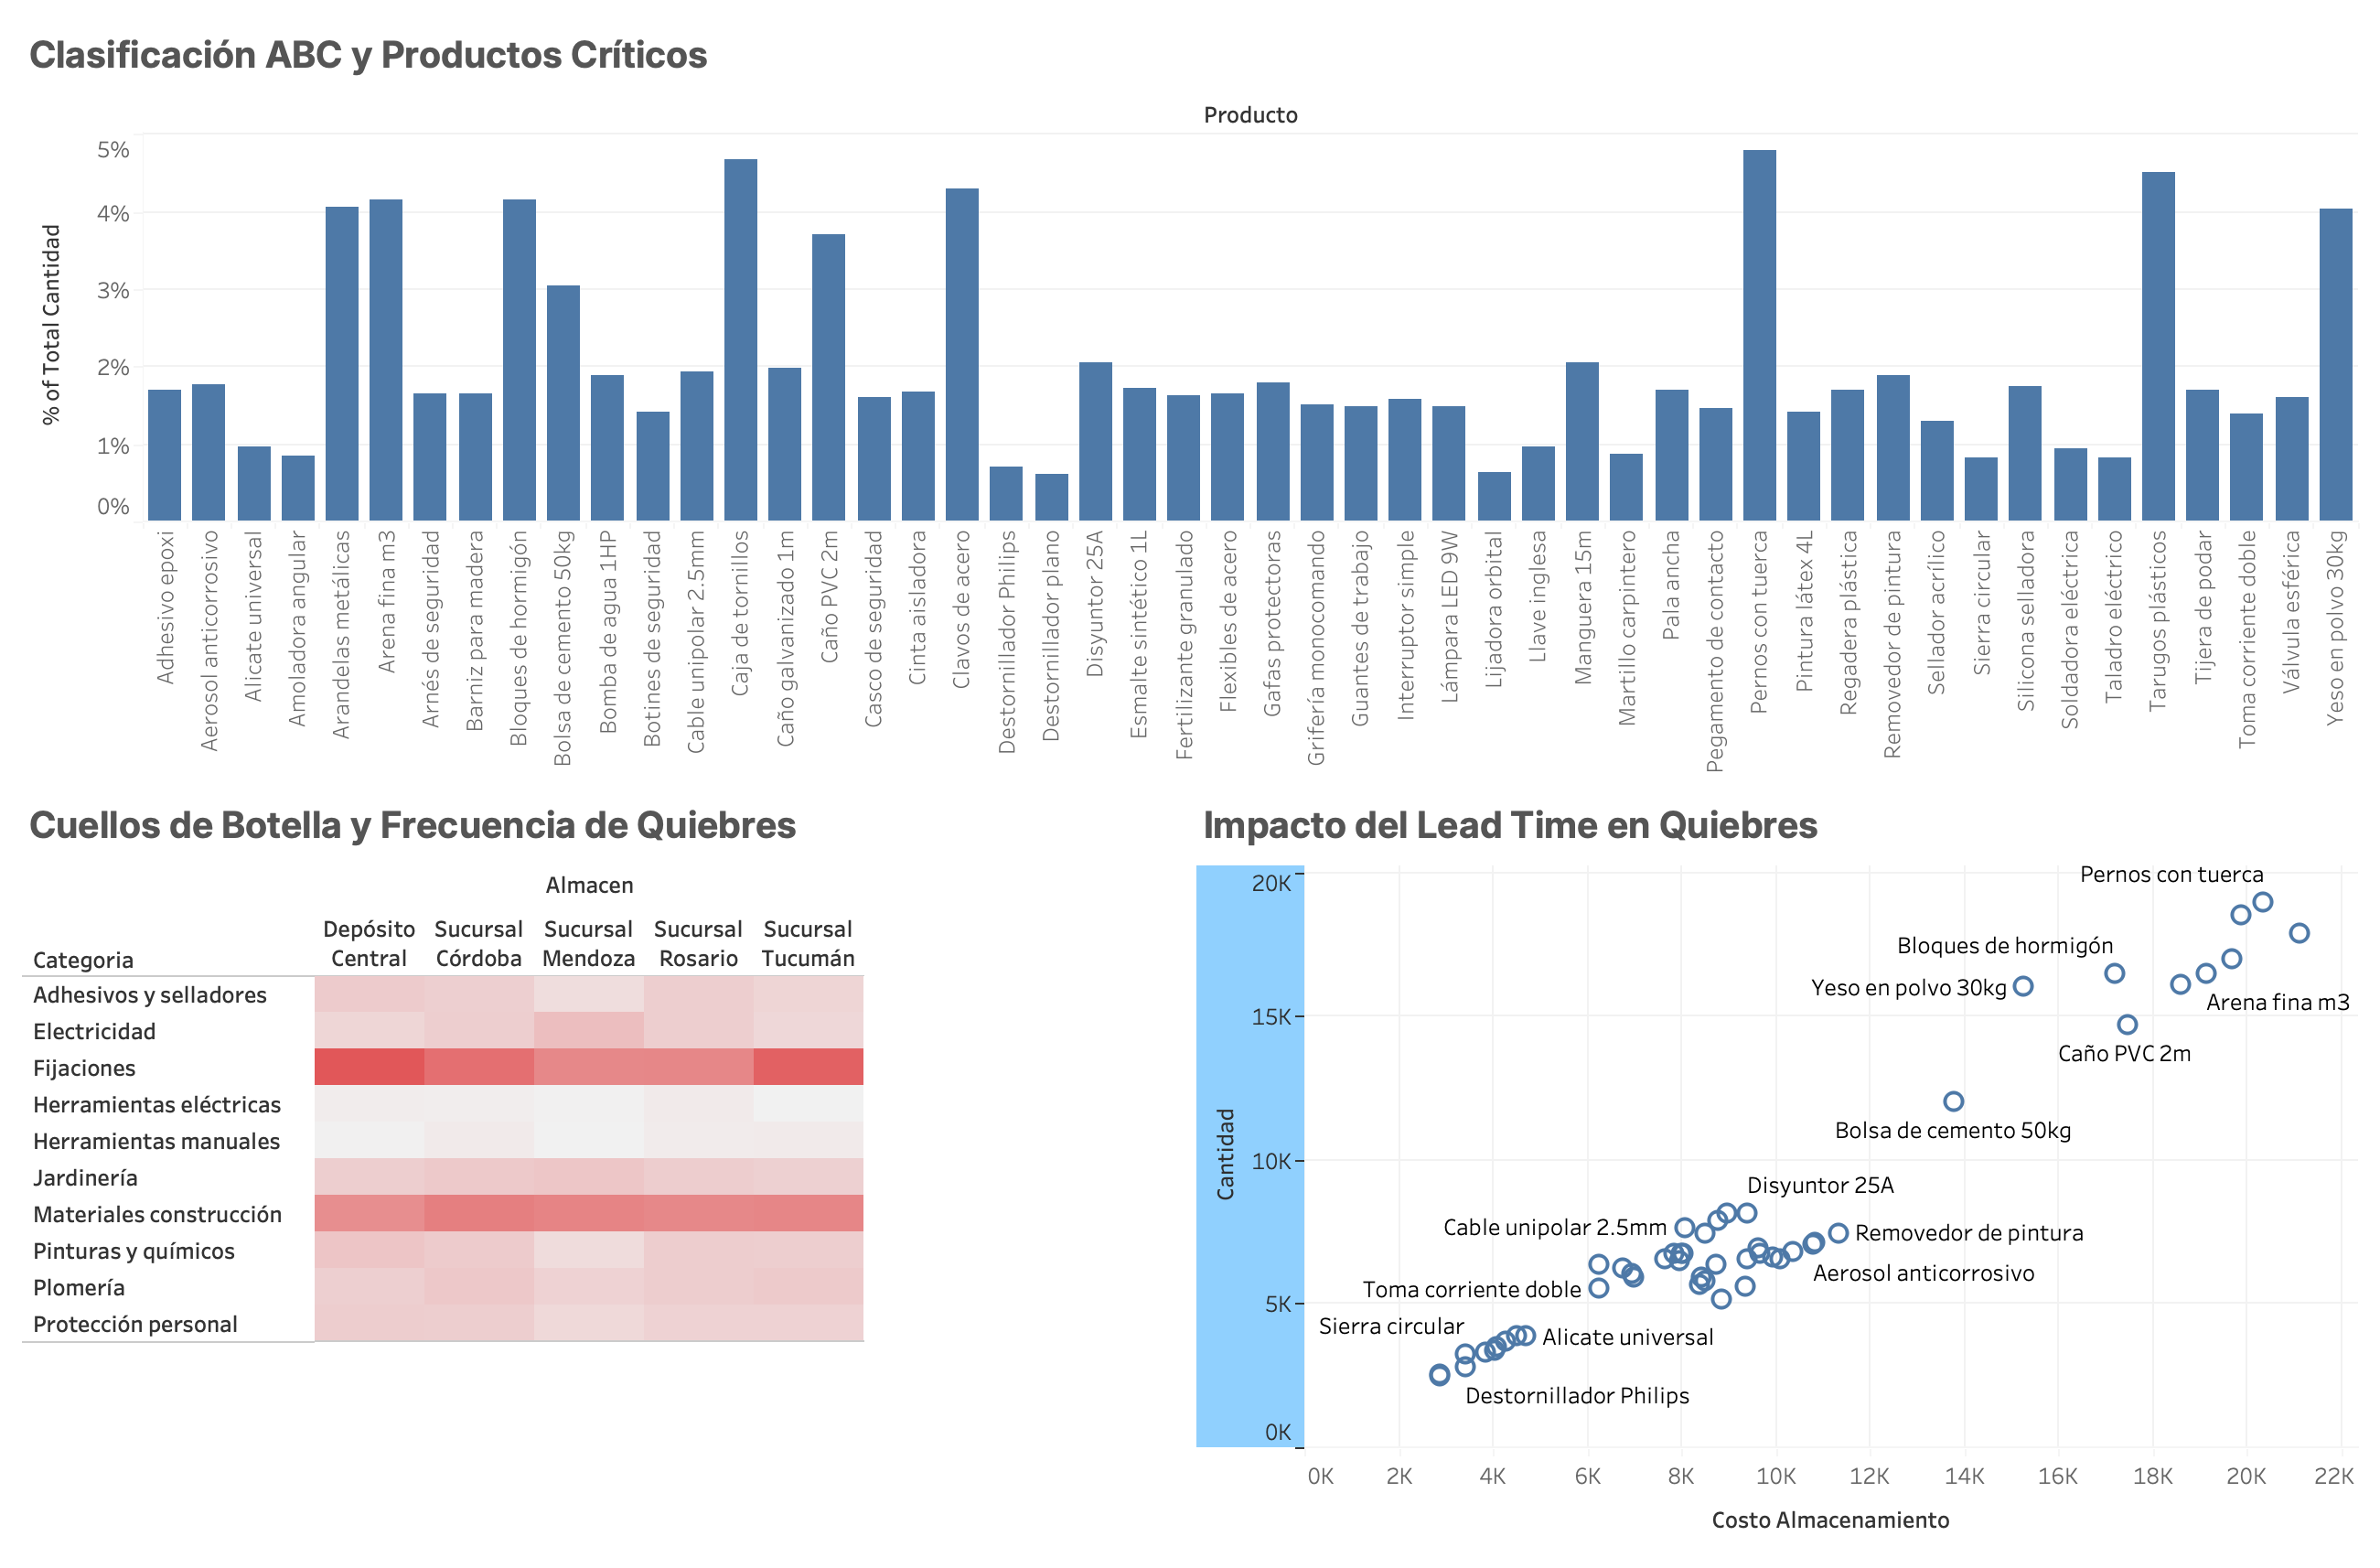

The dashboard page shown, as its layout file describes it:
{"tool":"tableau","page":{"name":"Dashboard - Control de Inventario y Quiebres","canvas":[1000,1000],"units":"permille","ordinal":0},"visuals":[{"type":"worksheet","title":"Clasificación ABC y Productos Críticos","mark":"Automatic","rows":["cantidad"],"cols":["producto"],"box":[6.2,9.3,987.7,490.7]},{"type":"worksheet","title":"Cuellos de Botella y Frecuencia de Quiebres","mark":"Square","rows":["categoria"],"cols":["almacen"],"box":[6.2,500,493.9,490.7]},{"type":"worksheet","title":"Impacto del Lead Time en Quiebres","mark":"Automatic","rows":["cantidad"],"cols":["costo_almacenamiento"],"box":[500,500,493.9,490.7]}]}

Visuals, with their boxes on the dashboard's canvas, which has no fixed pixel size, in thousandths of its width and height (x1, y1, x2, y2). These are canvas units, not pixel positions in the 2380x1568 screenshot, which may show the page scaled, cropped or inside an application window:
"Clasificación ABC y Productos Críticos" worksheet: x1=6, y1=9, x2=994, y2=500
"Cuellos de Botella y Frecuencia de Quiebres" worksheet (Square marks): x1=6, y1=500, x2=500, y2=991
"Impacto del Lead Time en Quiebres" worksheet: x1=500, y1=500, x2=994, y2=991
